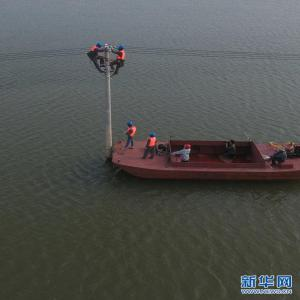blue: (119, 45, 126, 52), (127, 122, 134, 128), (149, 133, 156, 139), (96, 43, 103, 49)
none: (279, 147, 287, 154), (229, 140, 235, 146)
red: (184, 145, 191, 150)
